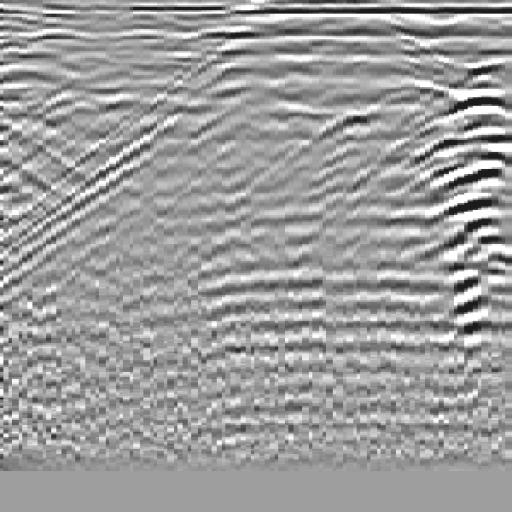metalic: (397, 42, 512, 326)
